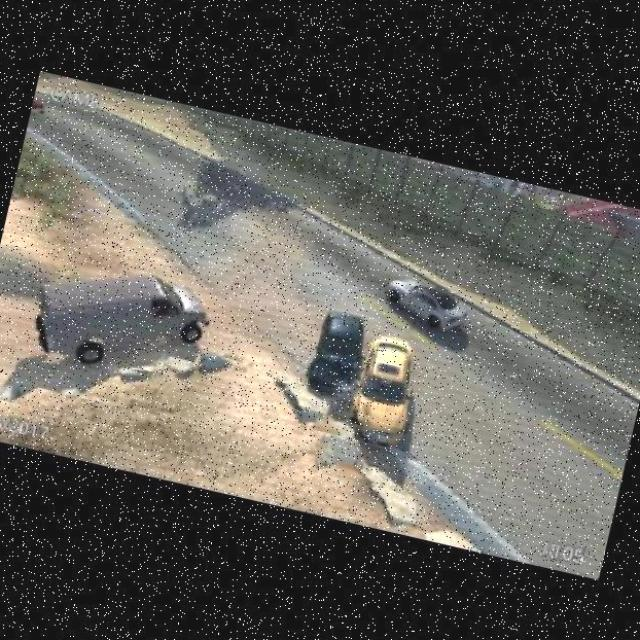accident: (306, 335, 409, 421)
